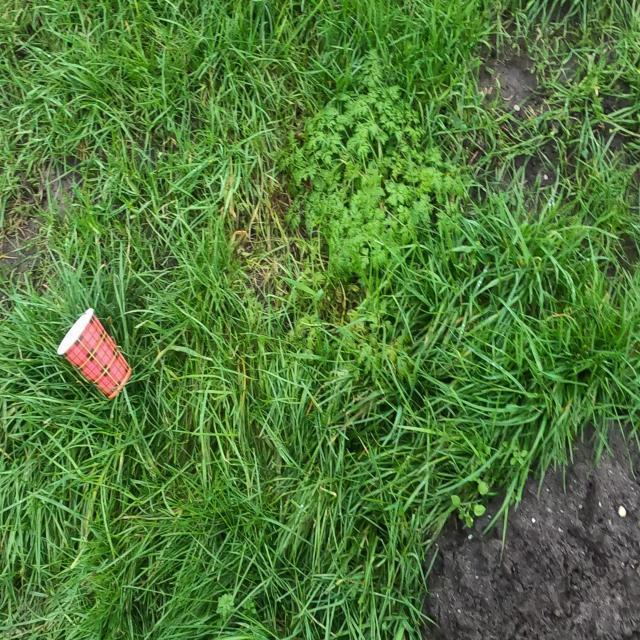Cup: (54, 305, 132, 403)
